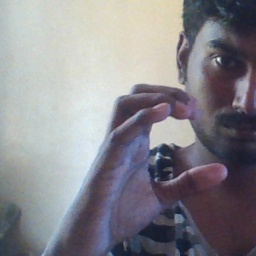C: (115, 78, 233, 212)
